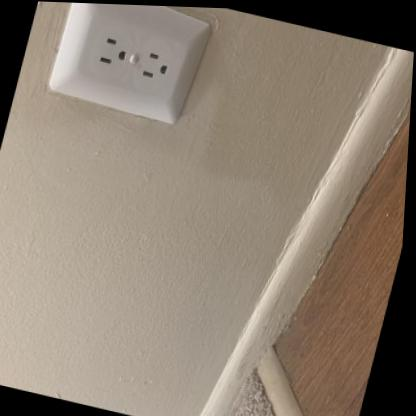OUTLET: (41, 2, 220, 130)
